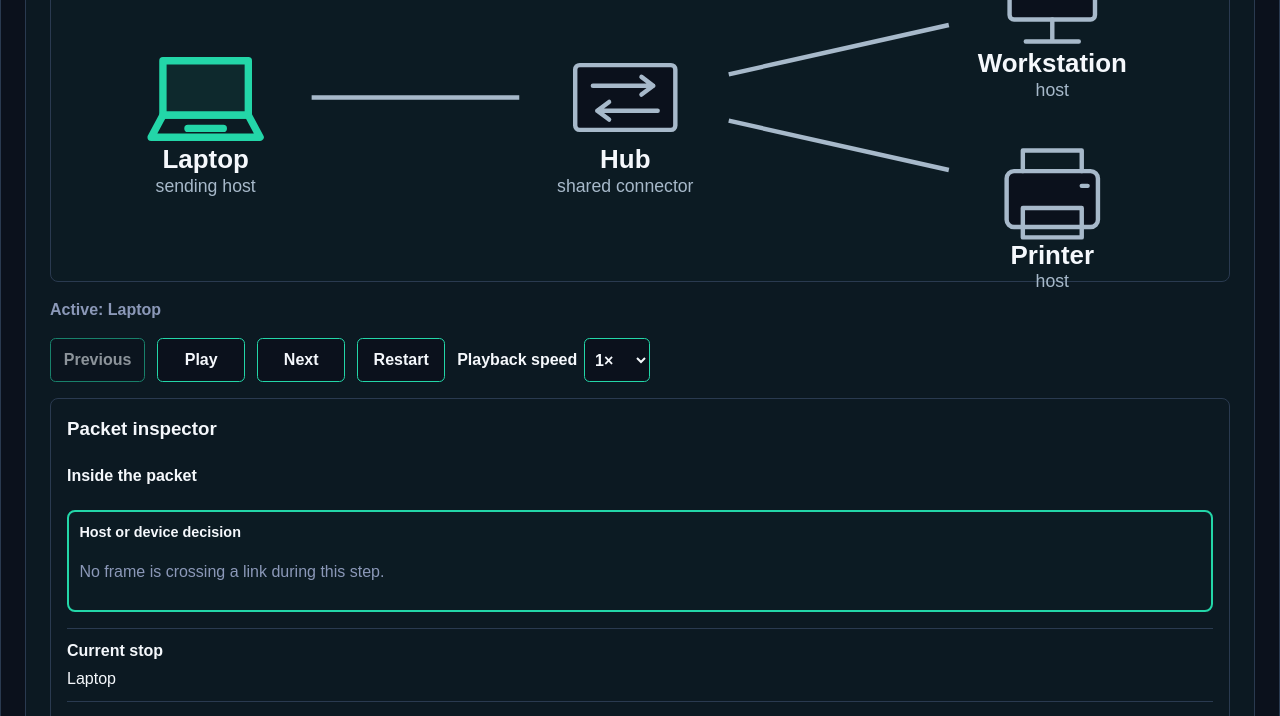
Test: DeviceRoleIdentifier › keeps the device description hidden until Play and resets it for a new scenario
(page scrolled)
Click the button "Play": (201, 360) x1=157 y1=338 x2=245 y2=382
(page scrolled)
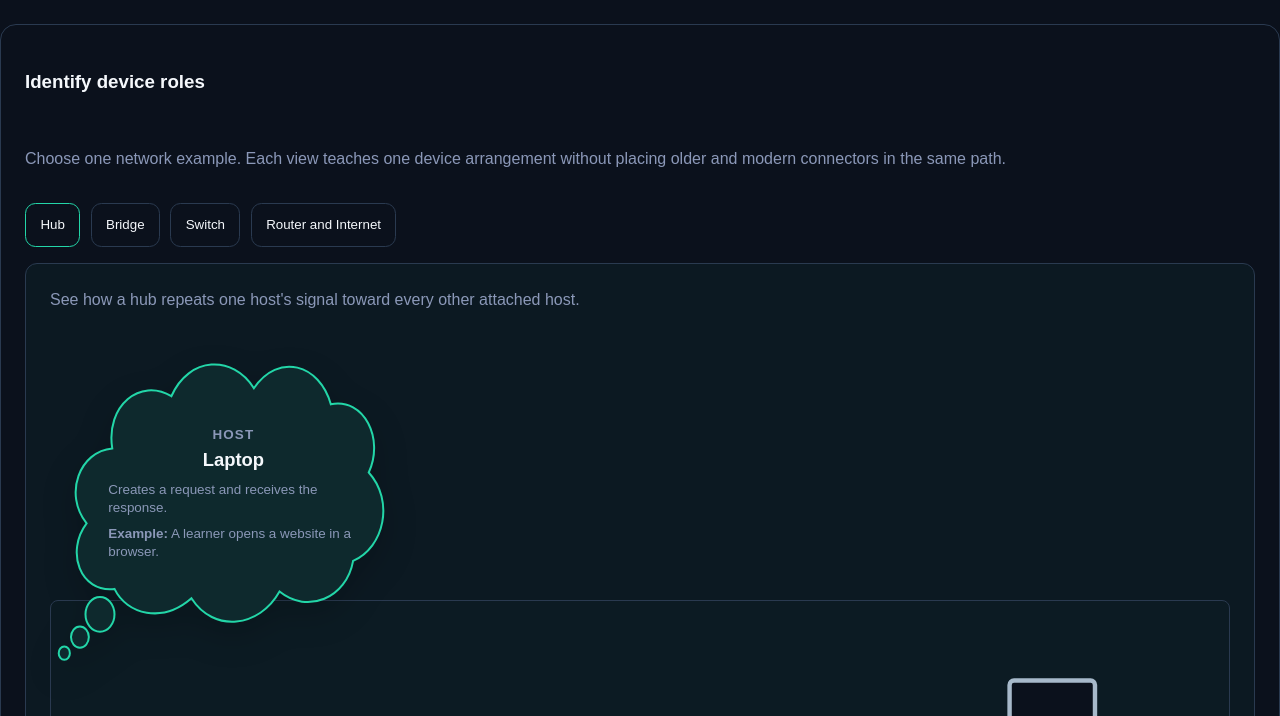
Result: the heading "Laptop" is shown at x1=203 y1=449 x2=264 y2=470
Click the button "Bridge": (125, 224) x1=91 y1=202 x2=160 y2=246
(page scrolled)
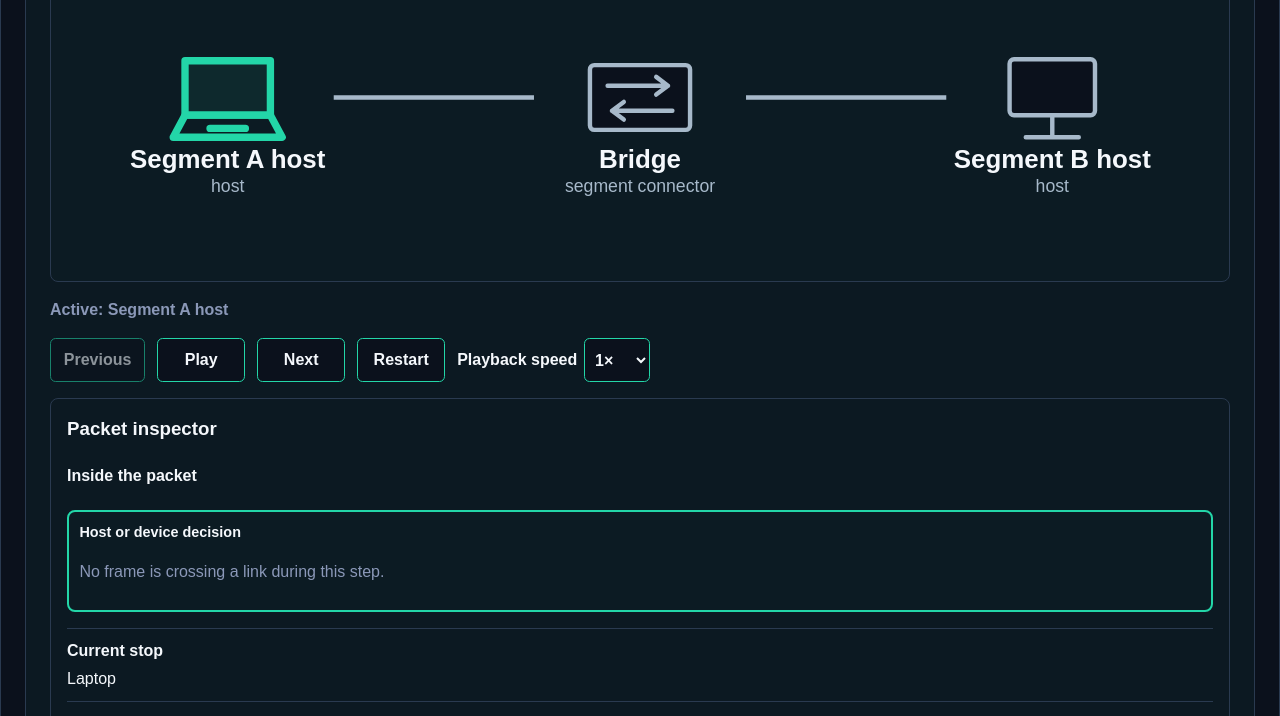
Result: the message is gone
Result: the button "Play" is shown at x1=157 y1=338 x2=245 y2=382
